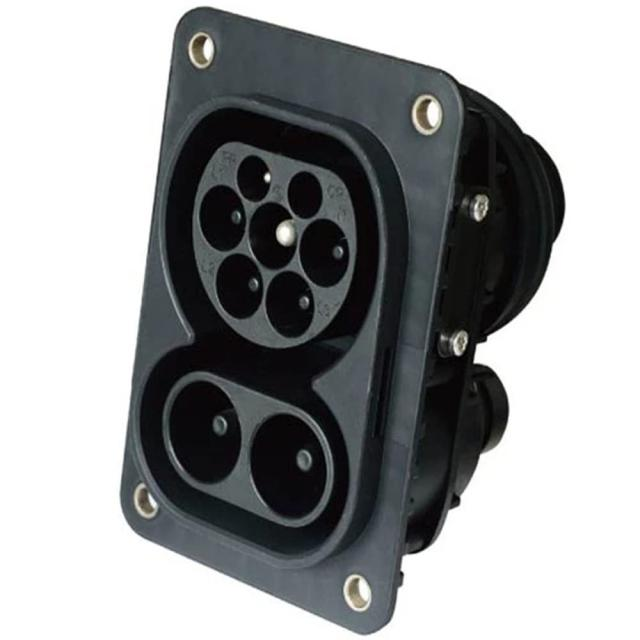inlet: (193, 141, 357, 349)
inlet-above-left: (236, 155, 272, 202)
inlet-above-right: (288, 171, 323, 219)
inlet-below-left: (214, 253, 264, 320)
inlet-below-right: (265, 270, 315, 338)
inlet-circle: (247, 201, 299, 271)
inlet-circle-left: (200, 184, 248, 252)
inlet-circle-right: (299, 218, 349, 287)
inlet-minus: (249, 413, 327, 521)
inlet-plus: (168, 380, 242, 485)
